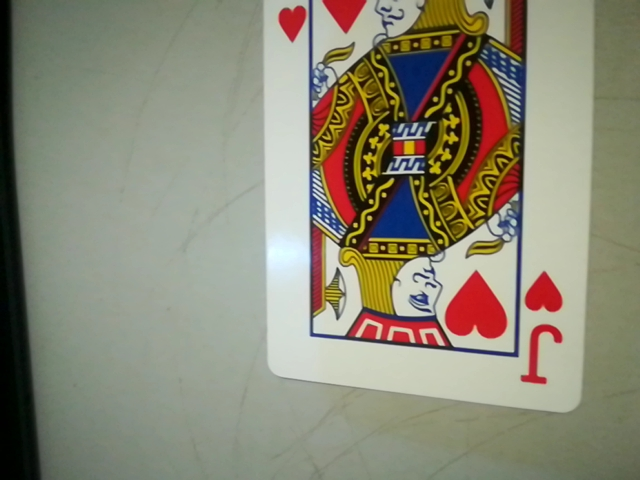hx j: (514, 268, 577, 394)
